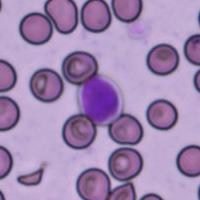L: (77, 74, 124, 126)
